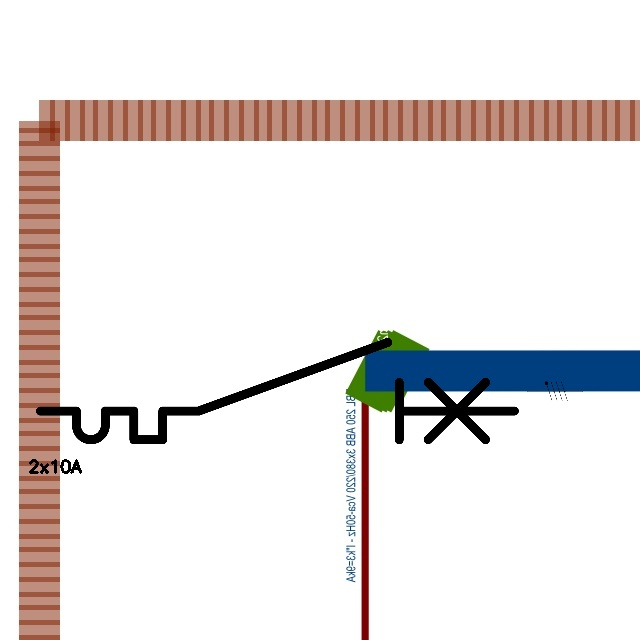interruptor_termomagnetico: (28, 330, 526, 452)
